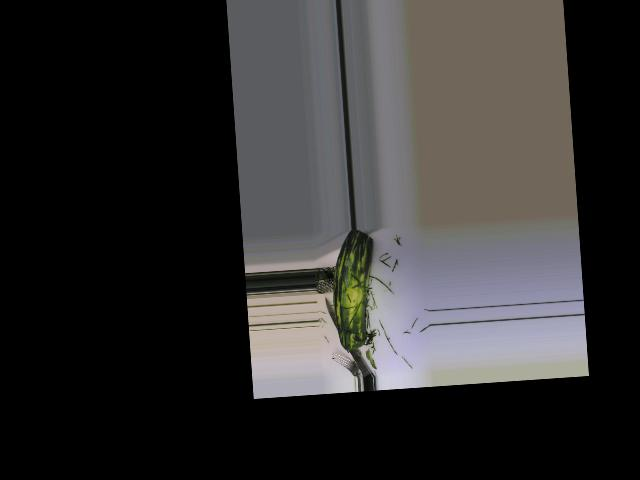cucumber: (329, 229, 380, 351)
